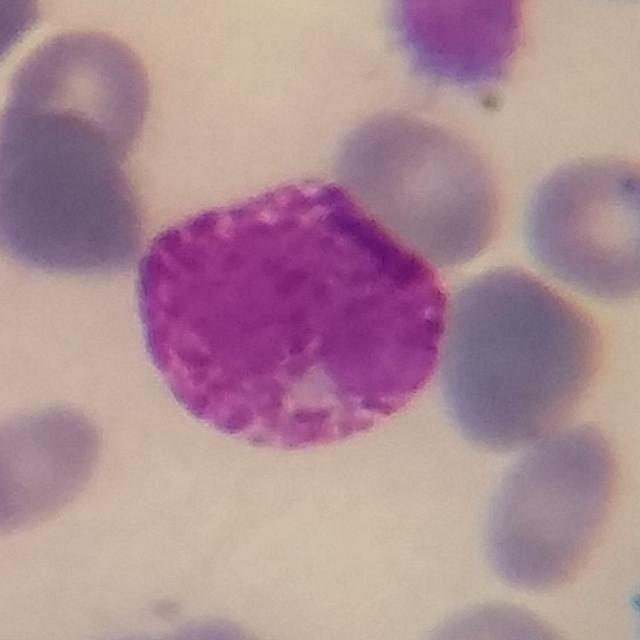Basophil: (133, 171, 458, 455)
Platelets: (382, 0, 537, 92)
RBC: (428, 258, 618, 453), (326, 105, 514, 268), (472, 416, 637, 601), (0, 112, 151, 284), (1, 21, 159, 173), (515, 147, 640, 304), (0, 394, 111, 540), (402, 593, 594, 640), (137, 609, 286, 640), (0, 0, 53, 83)
